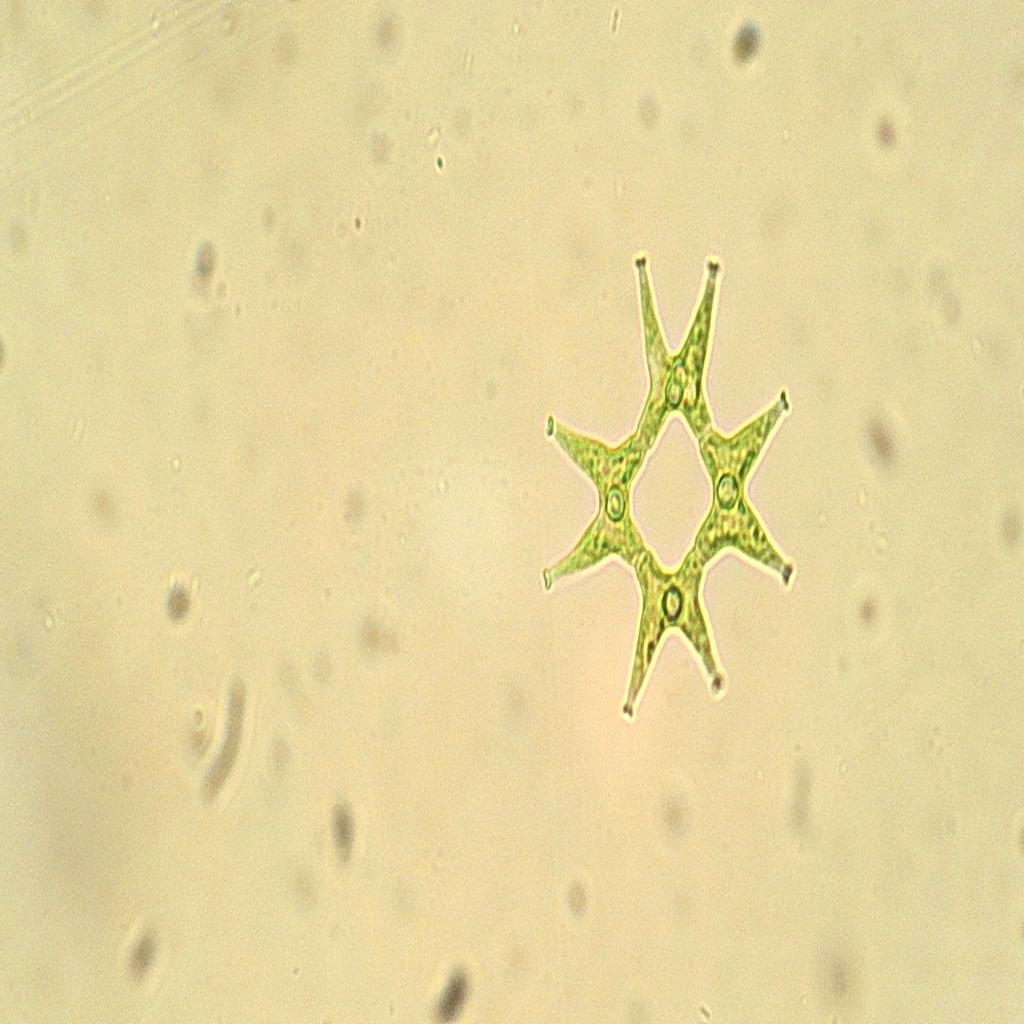Pediastrum_75O: (526, 226, 813, 764)
